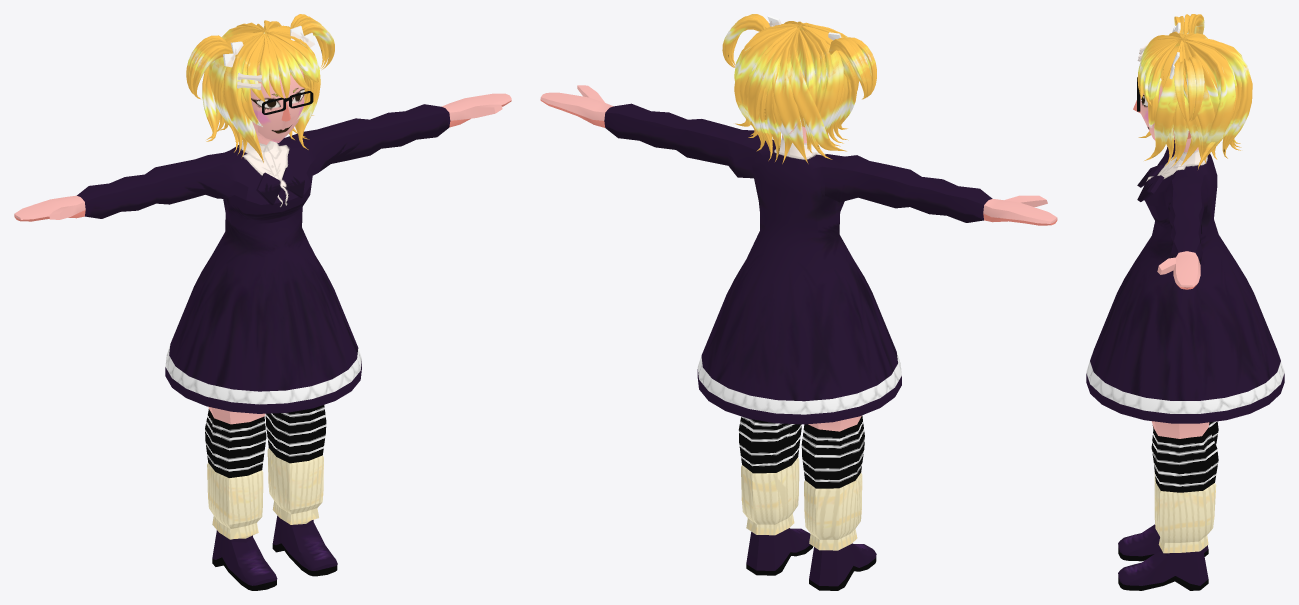
File: Bingi.glb
The picture shows the model from 3 angles, left to right: view 1: azimuth 30°, elevation 25°; view 2: azimuth 150°, elevation 25°; view 3: azimuth 270°, elevation 25°; orthographic projection. The views are drawn at different scales.
Parts seen in each view (by area): view 1: Cuerpo; view 2: Cuerpo; view 3: Cuerpo.
Boxes of the visible parts, x1,y1,x2,y2 form: Cuerpo: [14, 14, 511, 590]; Cuerpo: [540, 14, 1057, 590]; Cuerpo: [1086, 14, 1284, 590].
Bounding box in the file's own units: 14.31 × 14.67 × 4.96.
1 material, 1 textured.
